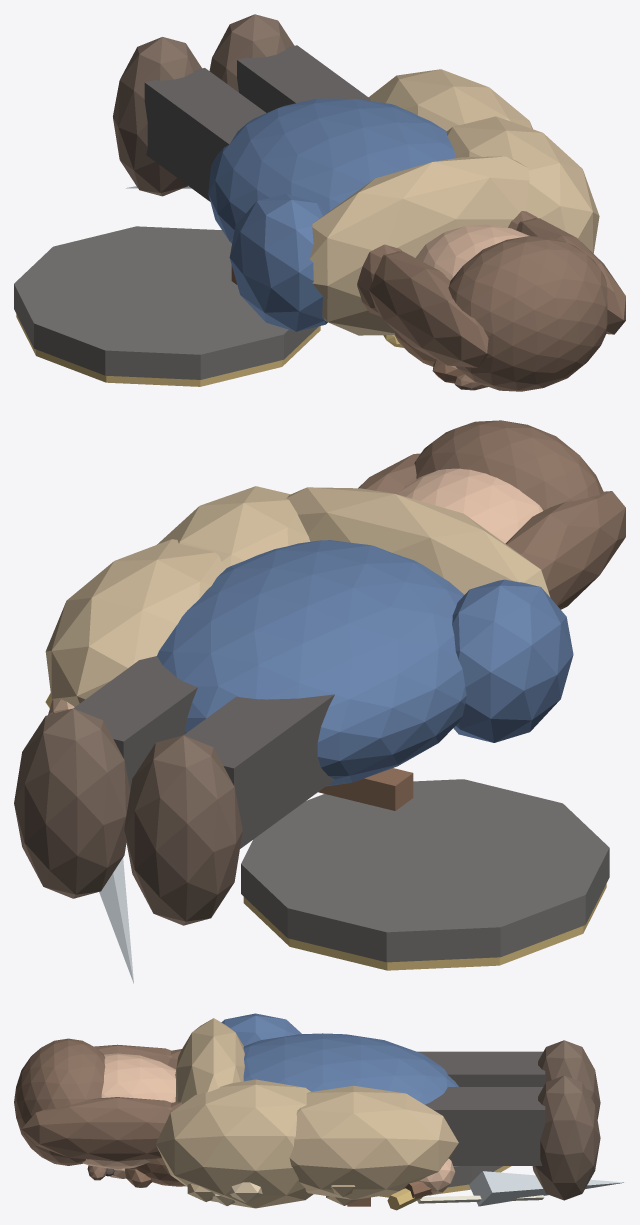
Rendered from low_poly_viking.glb.
The picture shows the model from 3 angles, top to bottom: view 1: azimuth 30°, elevation 25°; view 2: azimuth 150°, elevation 25°; view 3: azimuth 270°, elevation 25°; orthographic projection. The views are drawn at different scales.
Parts seen in each view (by area): view 1: Round Viking shield, Blue tunic, Hair cap, Fur mantle, Tunic sleeve, Trousers, Fur cloak upper, Long hair lock, Boot, Fur cloak lower, Trousers_1, Boot_1 (+4 smaller); view 2: Round Viking shield, Blue tunic, Boot, Boot_1, Fur cloak lower, Tunic sleeve, Fur mantle, Trousers, Hair cap, Long hair lock, Trousers_1, Fur cloak upper (+5 smaller); view 3: Fur cloak lower, Fur cloak upper, Blue tunic, Trousers_1, Long hair lock_1, Boot_1, Hair cap, Fur mantle, Trousers, Face, Sword blade, Boot (+11 smaller).
Boxes of the visible parts, left/top/right/bottom form: Round Viking shield: left=14, top=226, right=318, bottom=379; Blue tunic: left=208, top=98, right=455, bottom=243; Hair cap: left=448, top=236, right=607, bottom=391; Fur mantle: left=310, top=156, right=530, bottom=335; Tunic sleeve: left=229, top=194, right=327, bottom=331; Trousers: left=144, top=68, right=265, bottom=201; Fur cloak upper: left=446, top=116, right=599, bottom=253; Long hair lock: left=369, top=251, right=488, bottom=367; Boot: left=113, top=37, right=201, bottom=196; Fur cloak lower: left=368, top=69, right=532, bottom=130; Trousers_1: left=237, top=45, right=370, bottom=112; Boot_1: left=209, top=14, right=294, bottom=92; Round Viking shield: left=241, top=779, right=609, bottom=962; Blue tunic: left=157, top=540, right=466, bottom=786; Boot: left=124, top=735, right=242, bottom=925; Boot_1: left=14, top=708, right=130, bottom=898; Fur cloak lower: left=45, top=539, right=226, bottom=706; Tunic sleeve: left=452, top=579, right=573, bottom=742; Fur mantle: left=286, top=487, right=550, bottom=597; Trousers: left=184, top=694, right=334, bottom=848; Hair cap: left=414, top=420, right=603, bottom=510; Long hair lock: left=505, top=491, right=625, bottom=609; Trousers_1: left=73, top=656, right=197, bottom=790; Fur cloak upper: left=157, top=486, right=310, bottom=567; Fur cloak lower: left=289, top=1085, right=458, bottom=1199; Fur cloak upper: left=156, top=1079, right=313, bottom=1208; Blue tunic: left=243, top=1033, right=458, bottom=1104; Trousers_1: left=425, top=1087, right=545, bottom=1165; Long hair lock_1: left=21, top=1097, right=171, bottom=1161; Boot_1: left=532, top=1075, right=600, bottom=1200; Hair cap: left=14, top=1038, right=105, bottom=1165; Fur mantle: left=175, top=1018, right=244, bottom=1104; Trousers: left=417, top=1051, right=545, bottom=1086; Face: left=82, top=1053, right=175, bottom=1169; Sword blade: left=469, top=1171, right=625, bottom=1206; Boot: left=538, top=1040, right=600, bottom=1119.
Size of the model in its own units: 2.28 by 1.09 by 3.37.
